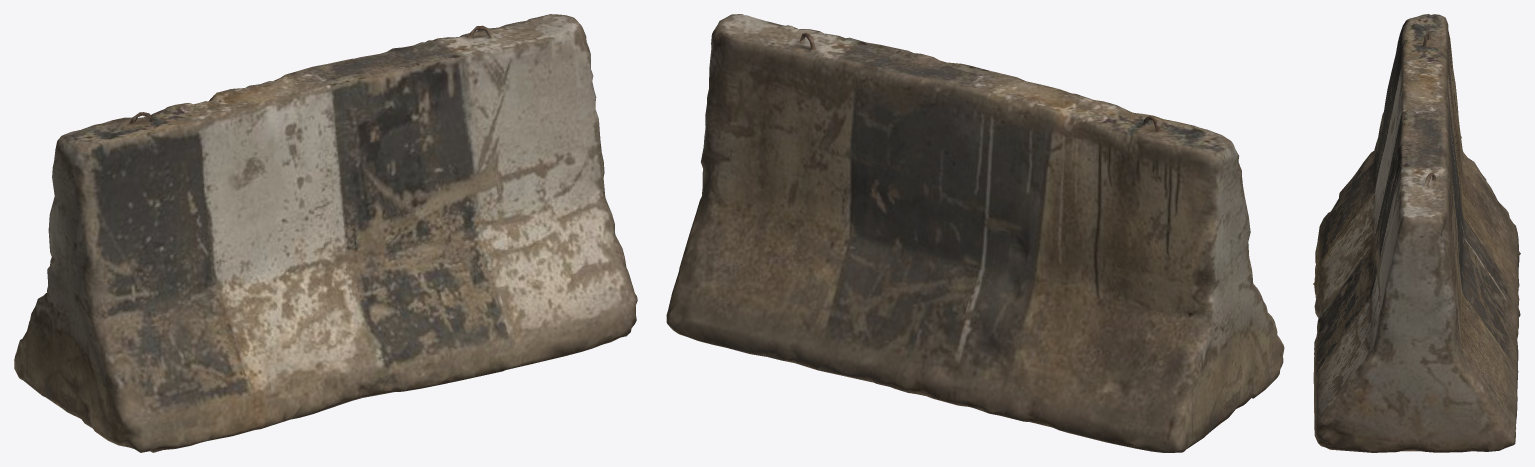
Rendered from concrete_road_barrier.glb.
3 renders of one model, left to right at view 1: azimuth 30°, elevation 25°; view 2: azimuth 150°, elevation 25°; view 3: azimuth 270°, elevation 25°, orthographic. The views are drawn at different scales.
Parts seen in each view (by area): view 1: concrete_road_barrier; view 2: concrete_road_barrier; view 3: concrete_road_barrier.
Part boxes in pixels (left/top/right/bottom): concrete_road_barrier: left=14, top=14, right=637, bottom=452; concrete_road_barrier: left=666, top=14, right=1284, bottom=452; concrete_road_barrier: left=1313, top=14, right=1520, bottom=452.
Size of the model in its own units: 1.54 by 0.8304 by 0.6387.
1 material, 1 textured.
